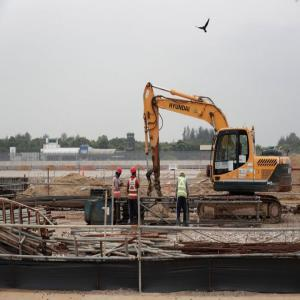red: (116, 168, 123, 180), (132, 167, 138, 177)
yellow: (180, 173, 186, 180)
